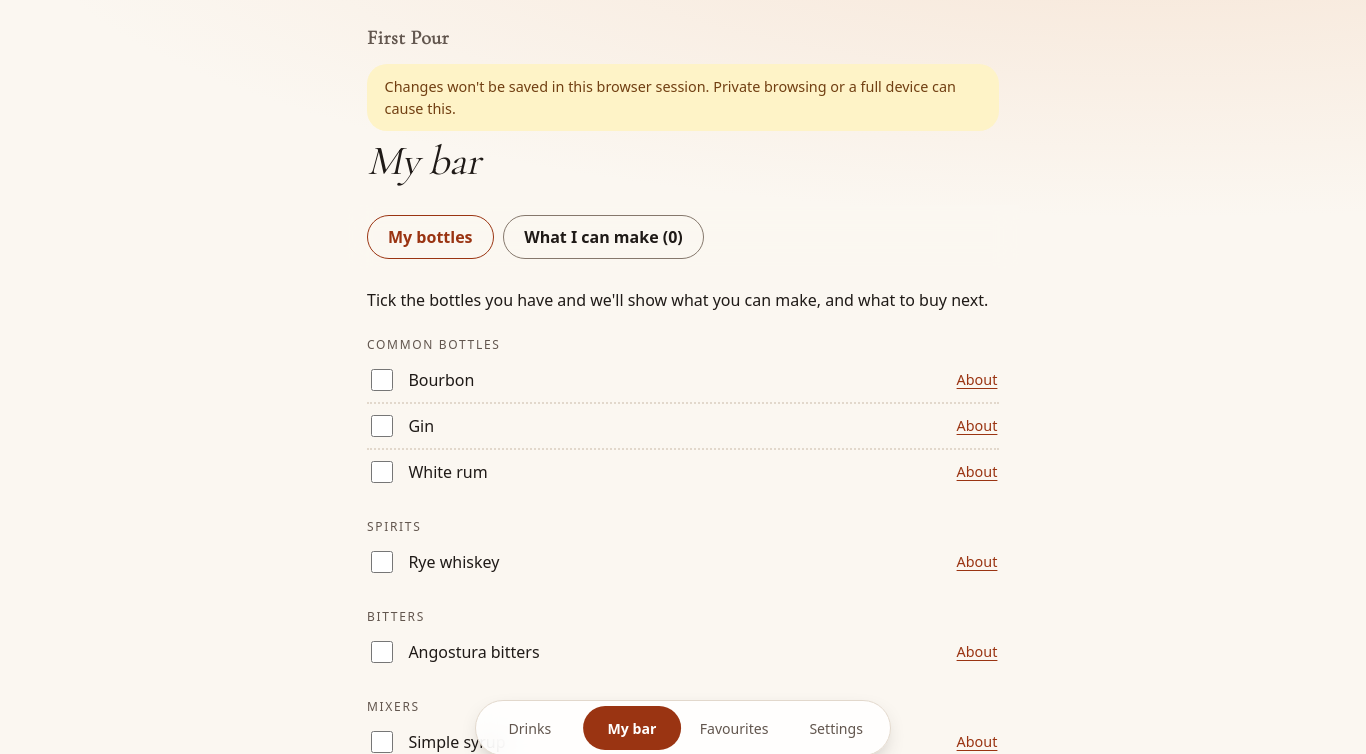
ticking a bottle does not insert anything above the list, and the count updates on the button
The width and height of the screenshot is (1366, 754).
expect the heading "My bar" is shown: met, box [367,136,480,186]
Click the checkbox labelled "White rum". click: click(382, 472)
box: [371,461,393,483]
(page scrolled)
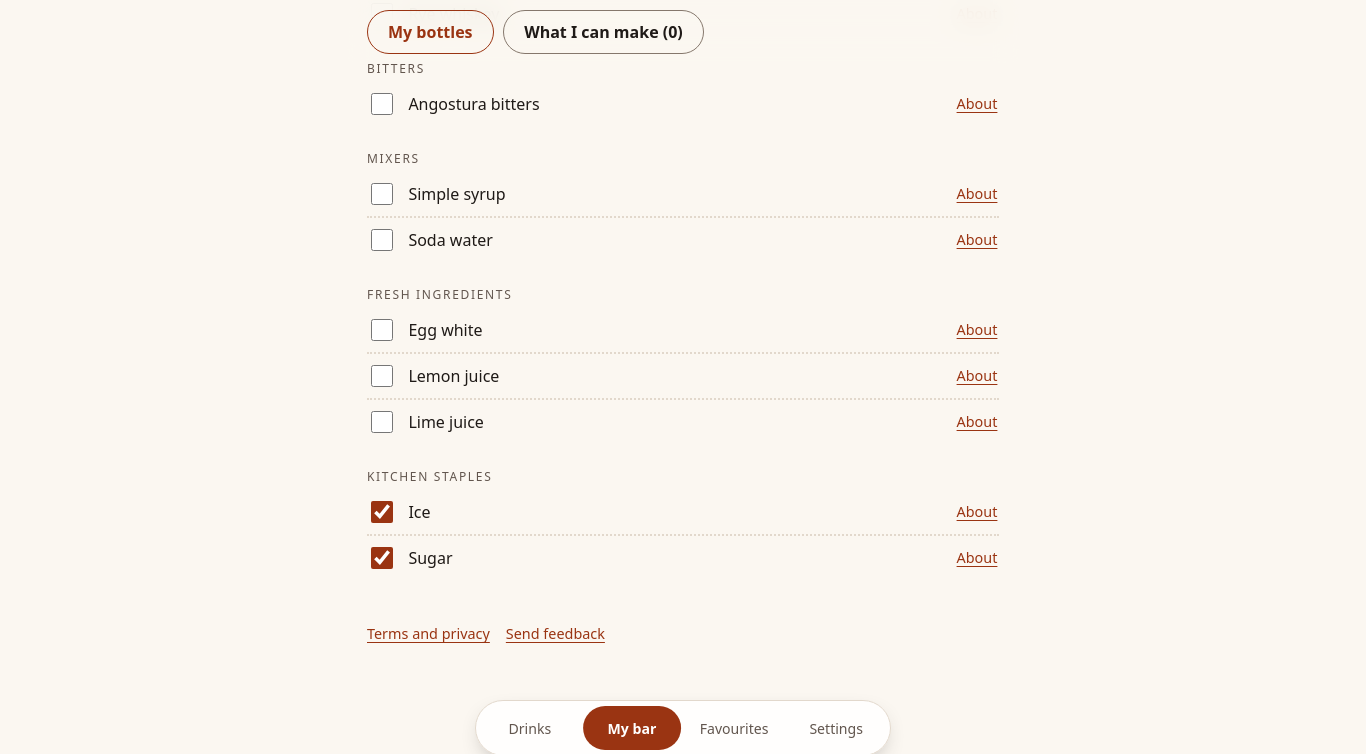
Click the checkbox labelled "Lime juice". click: click(382, 422)
box: [371,411,393,433]
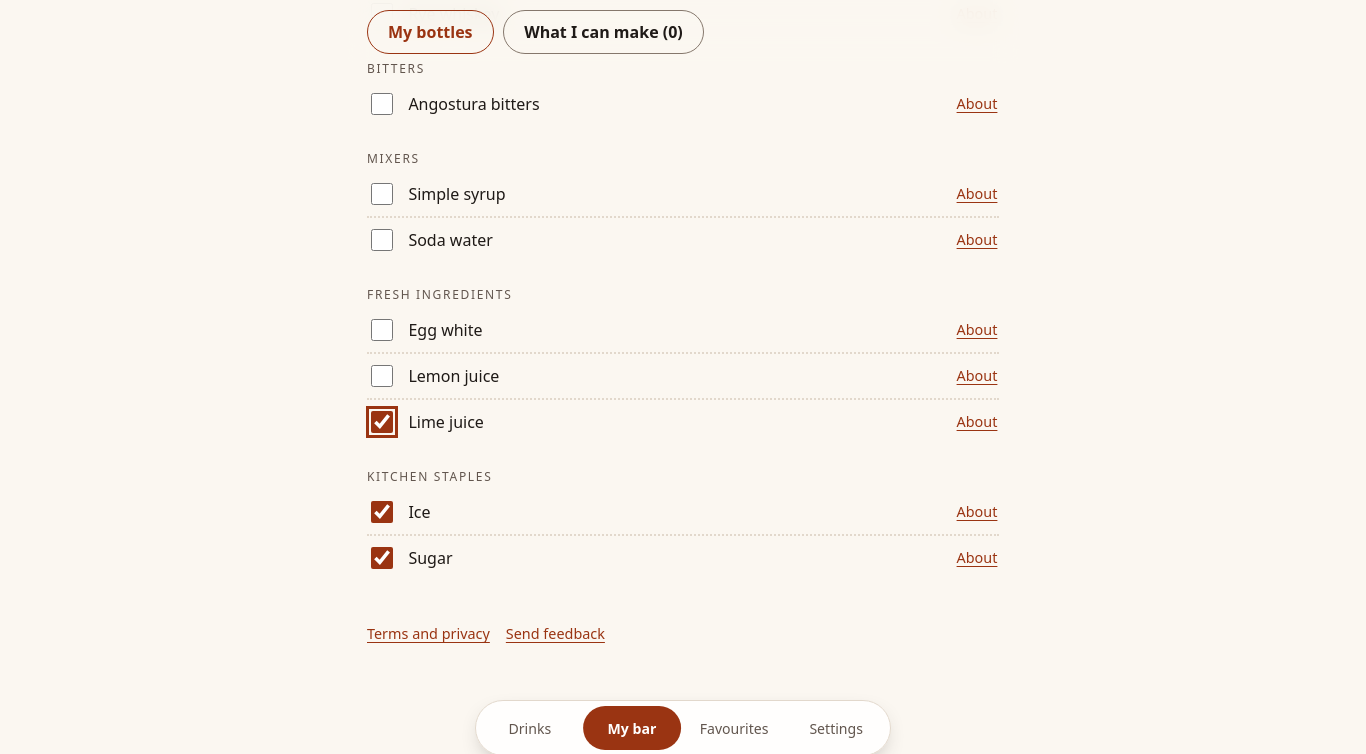
Click the checkbox labelled "Simple syrup". click: click(382, 194)
box: [371,183,393,205]
(page scrolled)
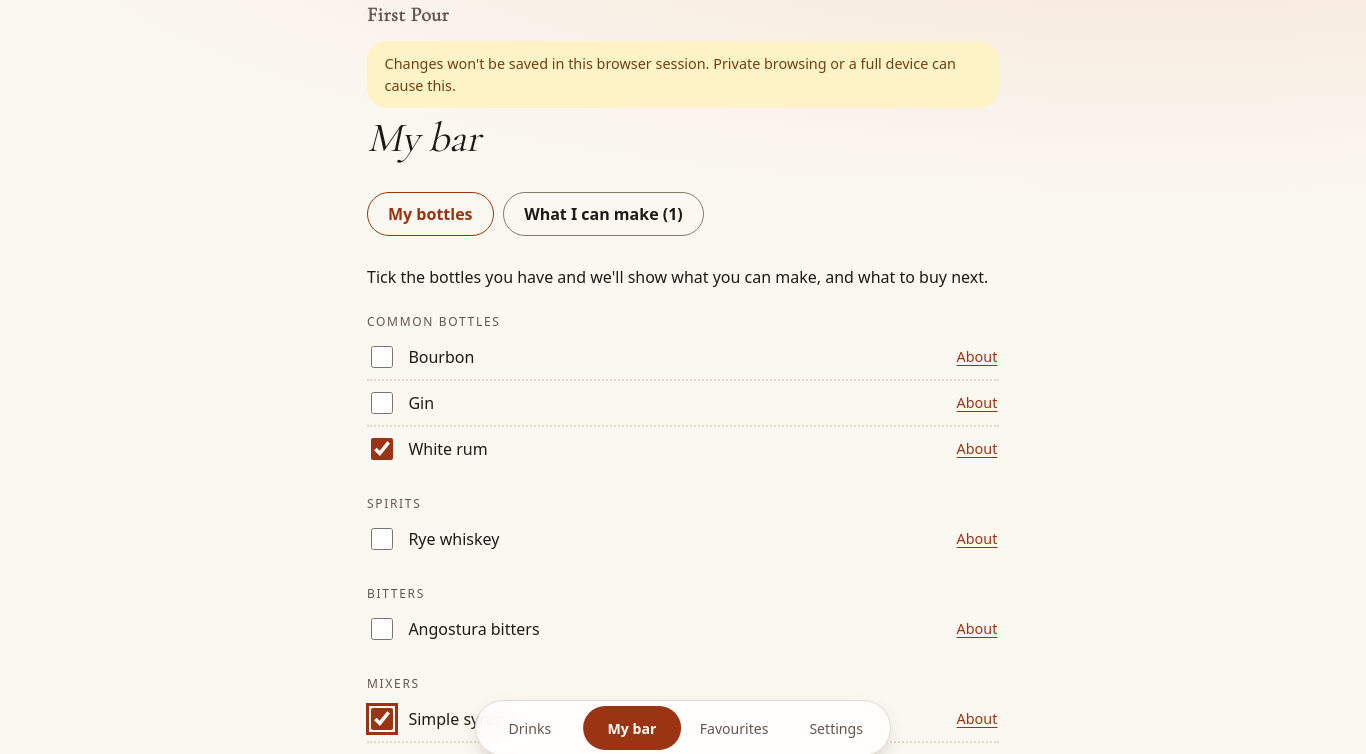
expect the element "Common bottles" is shown: met, box [367,299,999,471]
expect the button "What I can make (1)" is shown: met, box [503,192,704,236]
